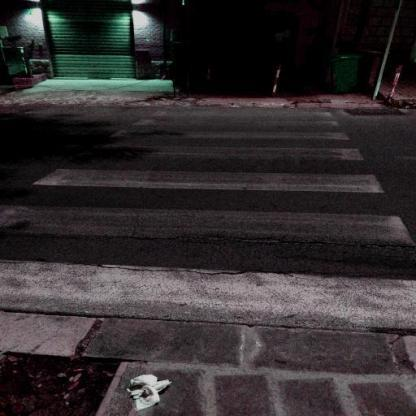crosswalk: (25, 141, 390, 202)
